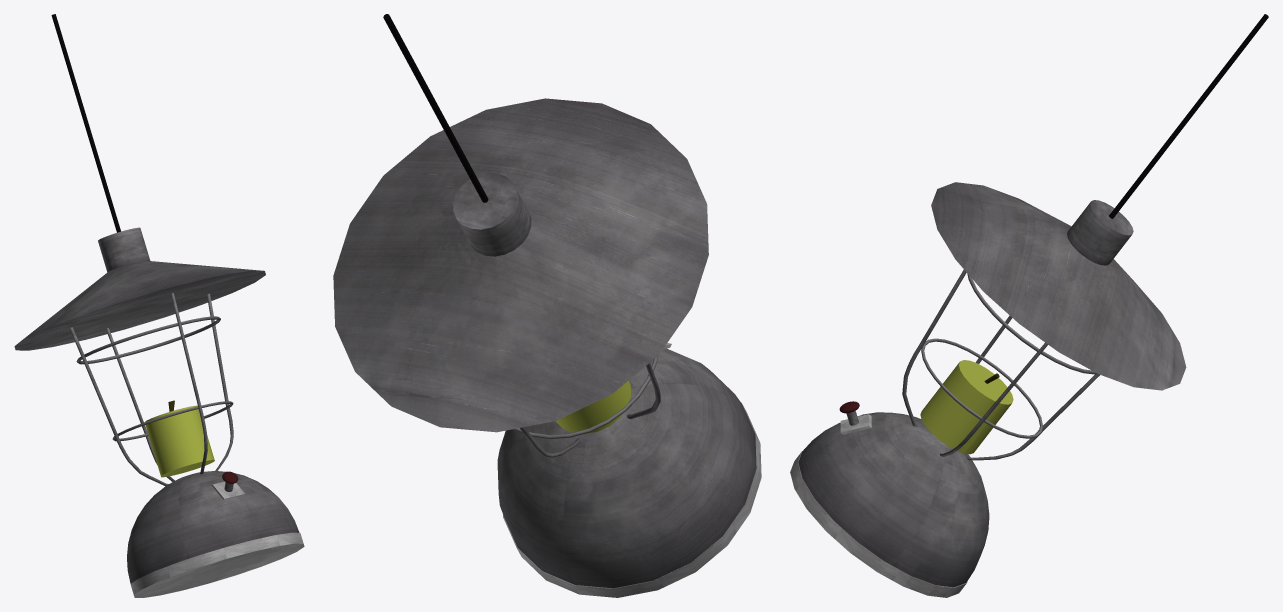
Rendered from lampara_techo_inclinada.obj.
The picture shows the model from 3 angles, left to right: view 1: azimuth 30°, elevation 25°; view 2: azimuth 150°, elevation 25°; view 3: azimuth 270°, elevation 25°; orthographic projection. The views are drawn at different scales.
Visible parts, largest first — view 1: lampara_techo:pCylinder5polySurface15; view 2: lampara_techo:pCylinder5polySurface15; view 3: lampara_techo:pCylinder5polySurface15.
Boxes of the visible parts, x1=… form: lampara_techo:pCylinder5polySurface15: x1=14, y1=14, x2=304, y2=597; lampara_techo:pCylinder5polySurface15: x1=333, y1=14, x2=761, y2=597; lampara_techo:pCylinder5polySurface15: x1=790, y1=14, x2=1268, y2=597.
Size of the model in its own units: 3.01 by 6.06 by 4.63.
7 materials, 2 textured.
